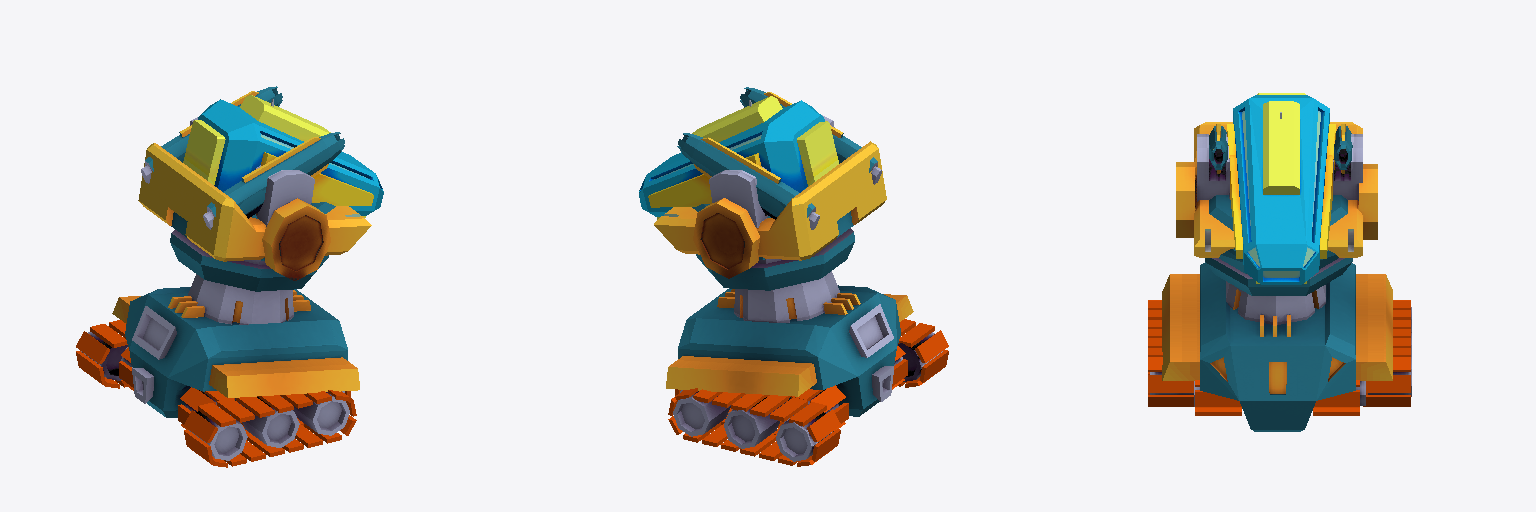
3 renders of one model, left to right at view 1: azimuth 30°, elevation 25°; view 2: azimuth 150°, elevation 25°; view 3: azimuth 270°, elevation 25°, orthographic.
Parts seen in each view (by area): view 1: Object015, Box020, Object014, Box018, Box019, Box017; view 2: Object015, Box019, Box018, Object014, Box020, Box016; view 3: Object015, Box019, Box020, Object014, Box017, Box016.
Boxes of the visible parts, x1,y1,x2,y2 form: Object015: [112, 95, 383, 417]; Box020: [184, 390, 356, 467]; Object014: [141, 86, 344, 229]; Box018: [81, 332, 349, 460]; Box019: [76, 320, 127, 388]; Box017: [178, 387, 350, 435]; Object015: [639, 96, 913, 416]; Box019: [668, 388, 840, 466]; Box018: [673, 332, 942, 461]; Object014: [677, 87, 881, 229]; Box020: [898, 319, 948, 387]; Box016: [675, 385, 848, 434]; Object015: [1162, 93, 1392, 431]; Box019: [1363, 300, 1410, 406]; Box020: [1148, 300, 1193, 406]; Object014: [1209, 124, 1352, 173]; Box017: [1195, 380, 1241, 415]; Box016: [1313, 380, 1359, 415].
Bounding box in the file's own units: 70.38 × 88.9 × 68.55.
6 materials, 2 textured.